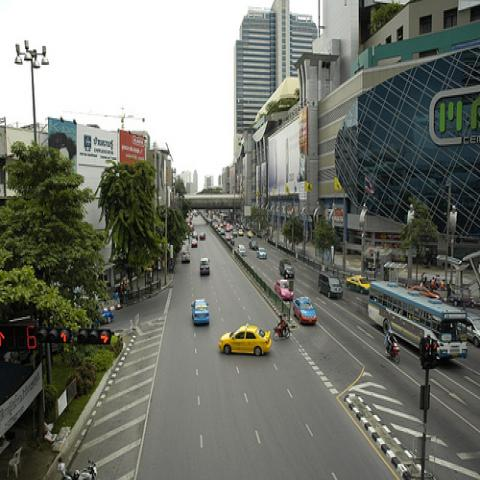bus: (366, 277, 470, 362)
car: (98, 218, 262, 326), (218, 324, 272, 355), (293, 298, 317, 325), (191, 298, 211, 326), (318, 273, 341, 296), (346, 275, 369, 295), (274, 280, 294, 302), (279, 259, 295, 279), (200, 257, 209, 275), (256, 248, 267, 259), (237, 244, 247, 256), (182, 251, 191, 264), (199, 232, 206, 240), (192, 239, 198, 248)
motorcycle: (272, 324, 290, 342), (385, 343, 400, 364)
